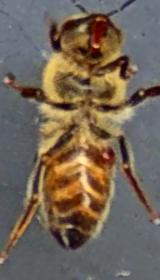varroa_mite: (91, 136, 122, 167)
